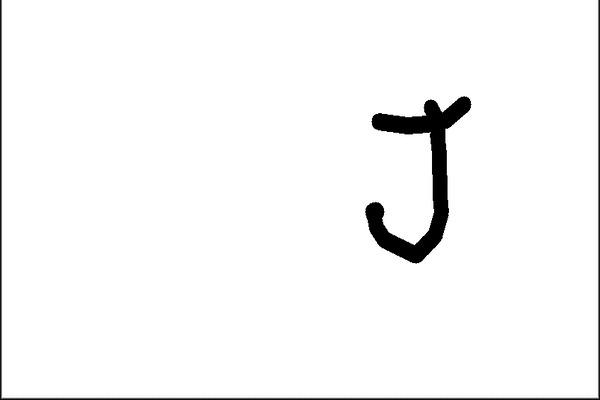J: (352, 92, 486, 270)
